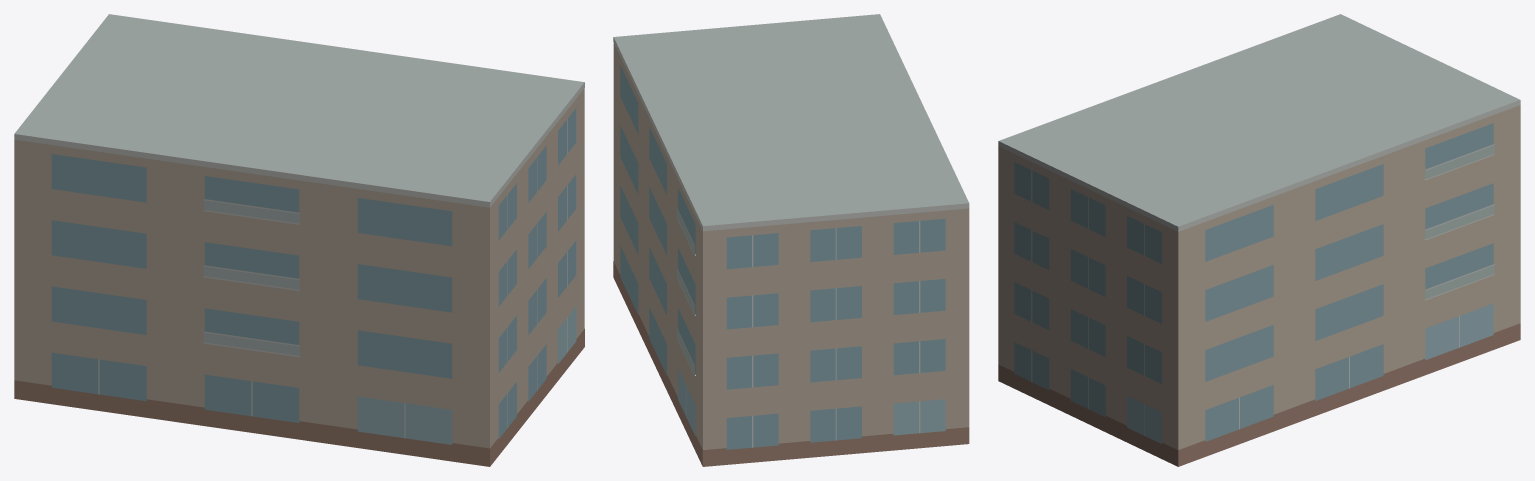
The model's file is survey-upis-32578432.glb.
3 renders of one model, left to right at view 1: azimuth 30°, elevation 25°; view 2: azimuth 150°, elevation 25°; view 3: azimuth 270°, elevation 25°, orthographic. The views are drawn at different scales.
Visible parts, largest first — view 1: survey-upis-32578432.tmp; view 2: survey-upis-32578432.tmp; view 3: survey-upis-32578432.tmp.
Part boxes in pixels (<box>): survey-upis-32578432.tmp: <box>14,14,584,466</box>; survey-upis-32578432.tmp: <box>613,14,969,466</box>; survey-upis-32578432.tmp: <box>998,14,1520,466</box>.
Size of the model in its own units: 21.68 by 11.4 by 22.47.
